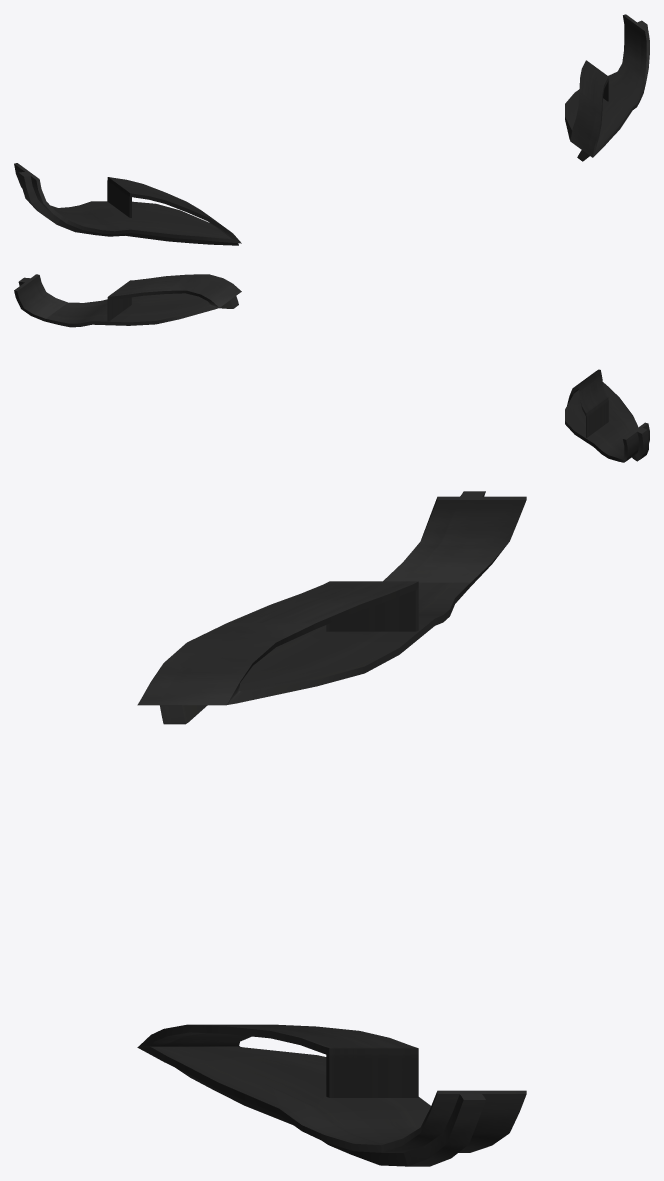
File: ledBase.obj
3 renders of one model, top to bottom at view 1: azimuth 30°, elevation 25°; view 2: azimuth 150°, elevation 25°; view 3: azimuth 270°, elevation 25°, orthographic. The views are drawn at different scales.
Parts seen in each view (by area): view 1: ledBase; view 2: ledBase; view 3: ledBase.
Boxes of the visible parts, box(x1,y1,x2,y2) form: ledBase: box(14, 14, 649, 245); ledBase: box(14, 274, 649, 462); ledBase: box(137, 491, 526, 1166).
Bounding box in the file's own units: 161 × 11.95 × 43.62.
Materials: 1 (1 with a texture image).
